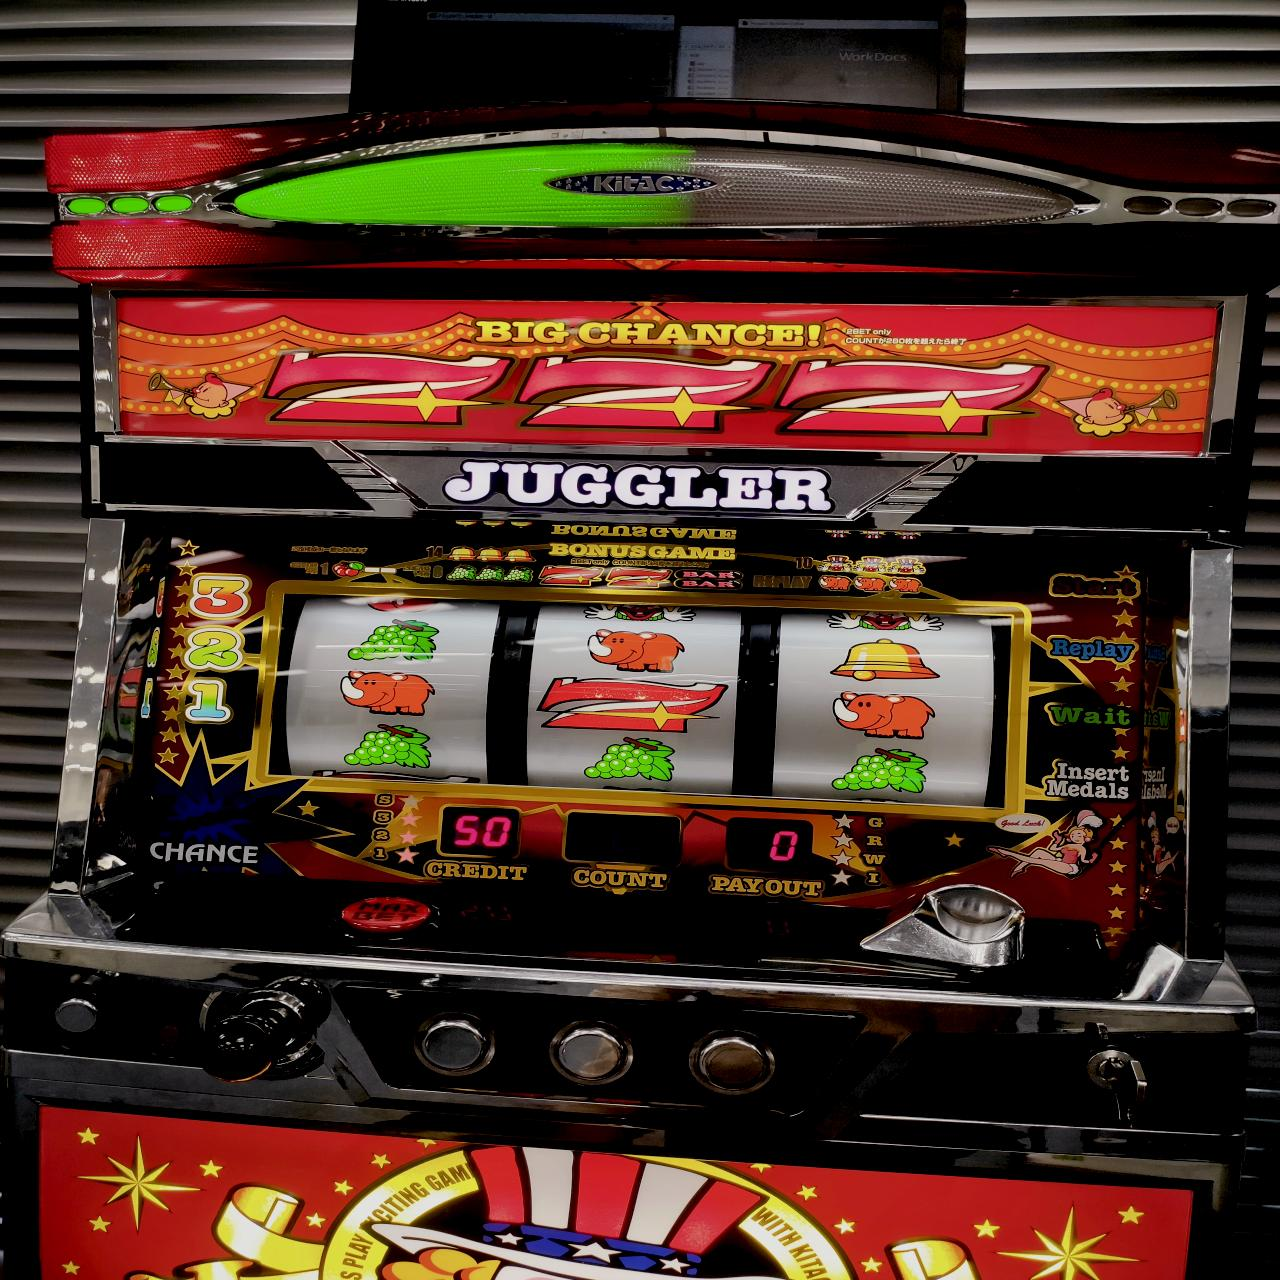7: (537, 676, 723, 733)
8: (829, 689, 940, 740), (583, 627, 686, 675), (335, 668, 437, 715)
Display: (272, 591, 1013, 813)
bell: (828, 639, 941, 685)
grape: (583, 734, 676, 787), (828, 747, 931, 794), (342, 617, 440, 663), (343, 722, 436, 769)
